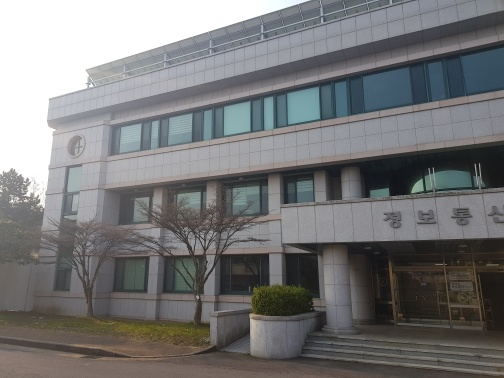Information Telecommunication Center: (50, 43, 492, 328)
